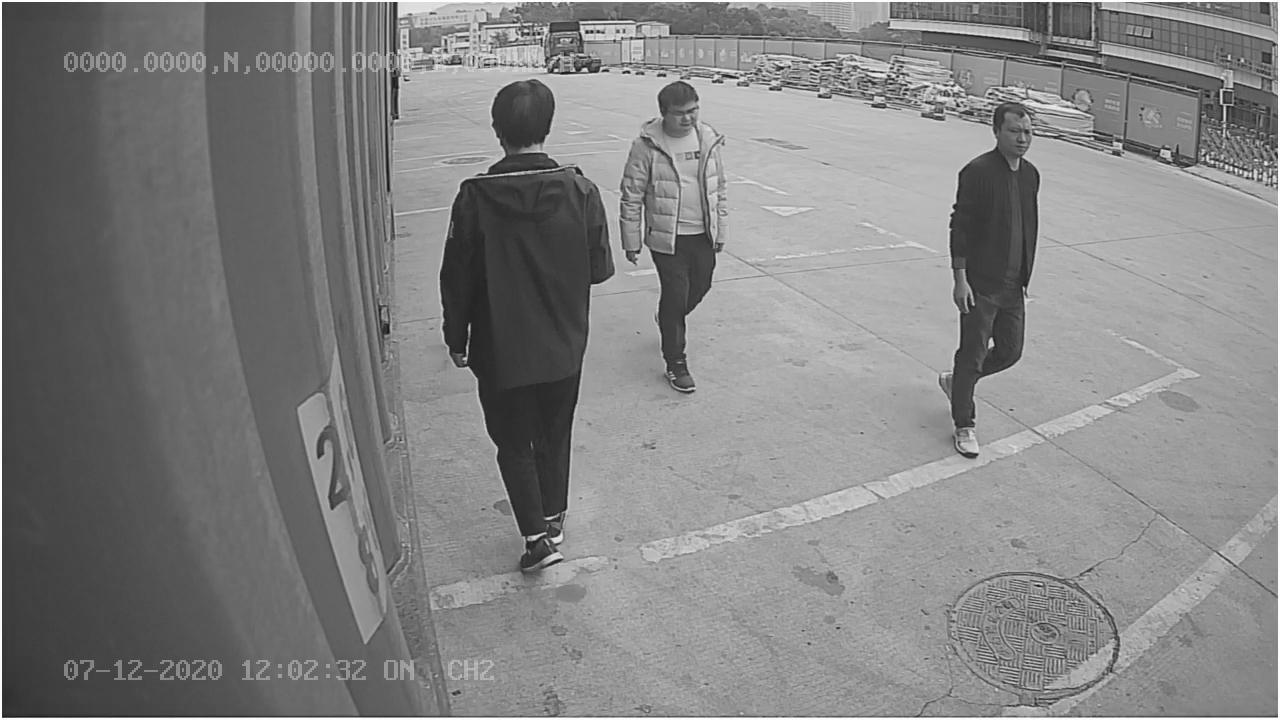person: (434, 74, 619, 576), (926, 100, 1052, 466)
